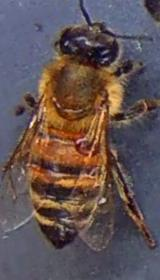varroa_mite: (61, 125, 114, 166)
